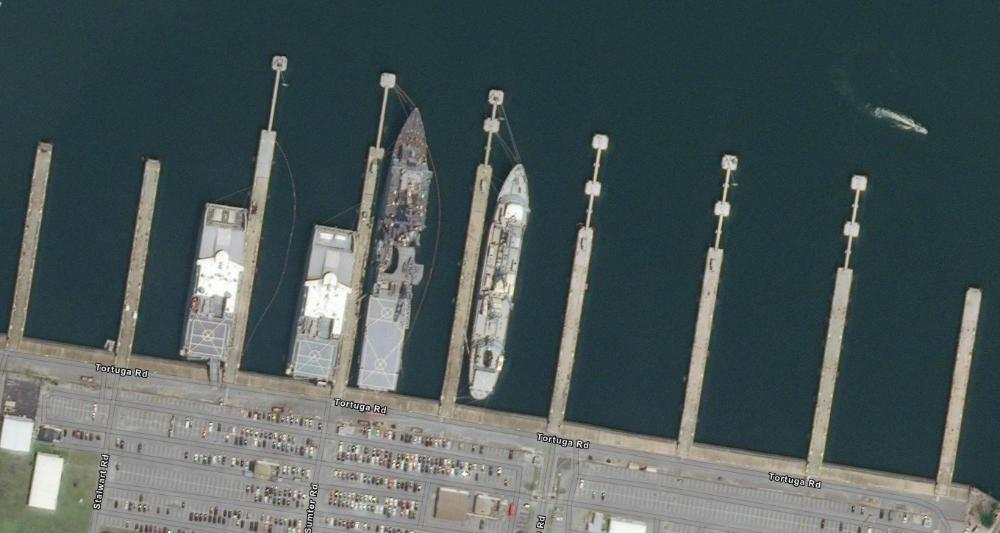amphiby: (360, 105, 432, 402)
supply: (472, 159, 531, 407)
